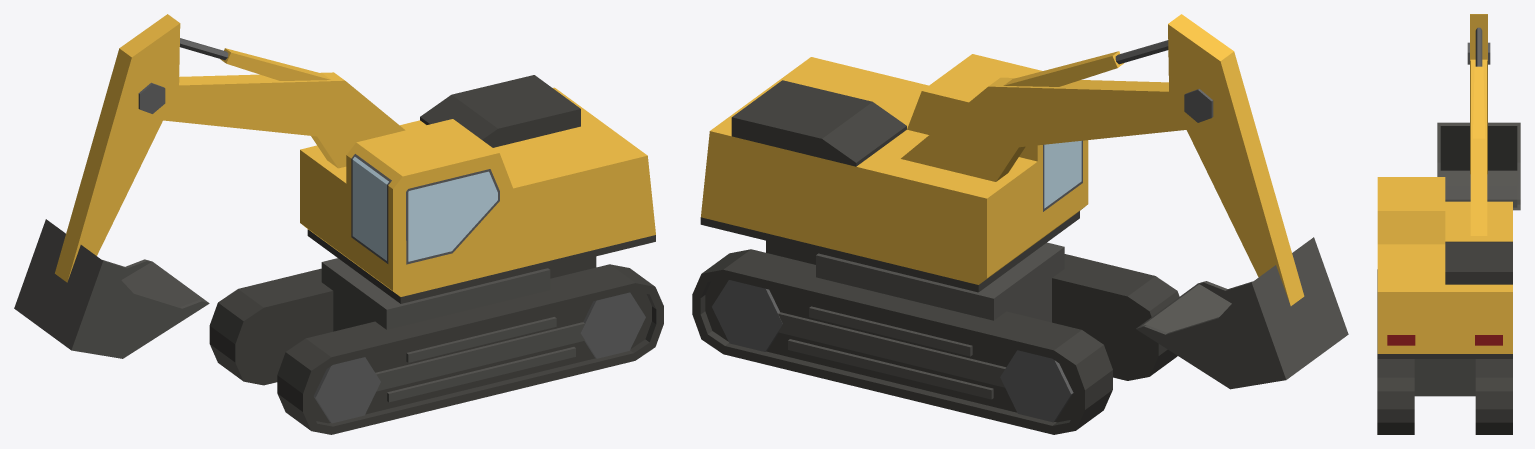
Rendered from Excavator.fbx.
The picture shows the model from 3 angles, left to right: view 1: azimuth 30°, elevation 25°; view 2: azimuth 150°, elevation 25°; view 3: azimuth 270°, elevation 25°; orthographic projection. The views are drawn at different scales.
Visible parts, largest first — view 1: Excavator; view 2: Excavator; view 3: Excavator.
Boxes of the visible parts, bbox=[...] form: Excavator: bbox=[14, 14, 663, 434]; Excavator: bbox=[692, 14, 1348, 434]; Excavator: bbox=[1377, 14, 1520, 434].
Size of the model in its own units: 10.51 by 7.04 by 3.26.
1 material, 1 textured.
